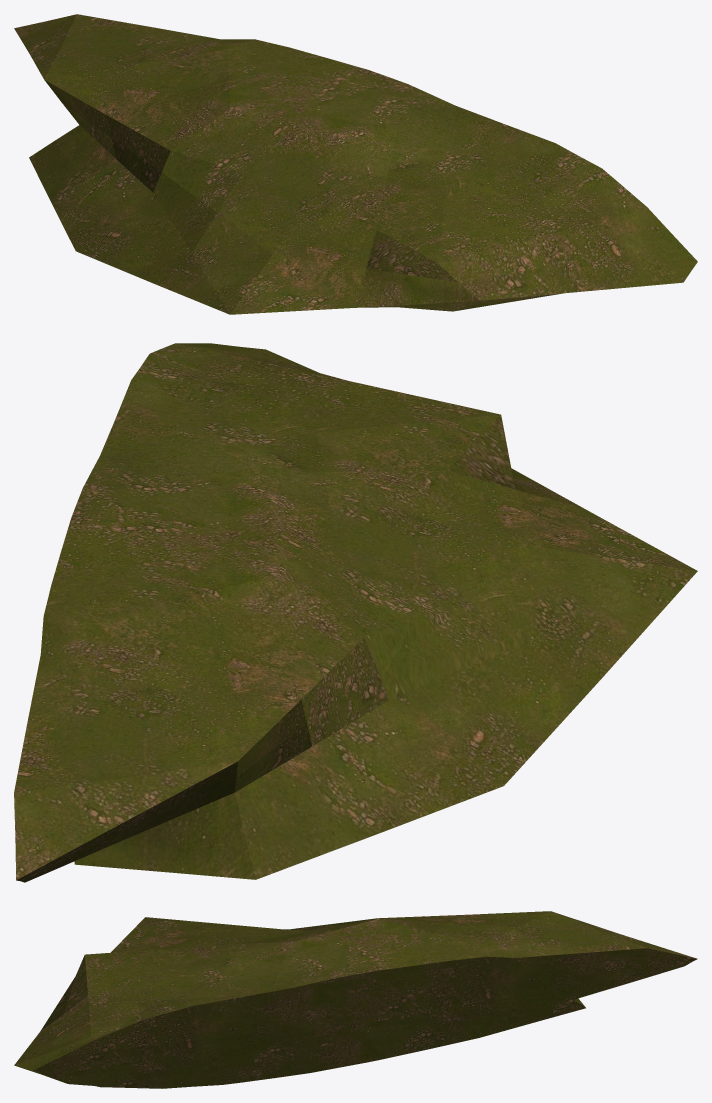
Rendered from slab_2.glb.
3 renders of one model, top to bottom at view 1: azimuth 30°, elevation 25°; view 2: azimuth 150°, elevation 25°; view 3: azimuth 270°, elevation 25°, orthographic. The views are drawn at different scales.
Visible parts, largest first — view 1: slab; view 2: slab; view 3: slab.
Boxes of the visible parts, x1,y1,x2,y2 form: slab: [14, 14, 697, 314]; slab: [14, 343, 697, 882]; slab: [14, 911, 697, 1088].
Bounding box in the file's own units: 1.81 × 0.5848 × 3.21.
1 material, 1 textured.
